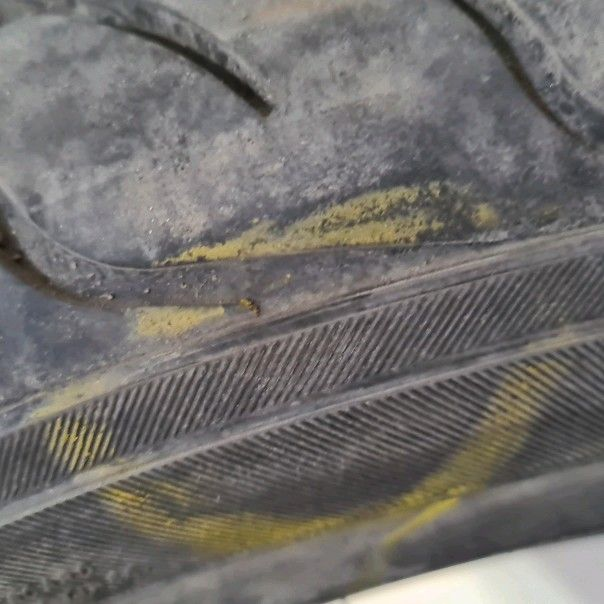CBU: (113, 262, 515, 516)
